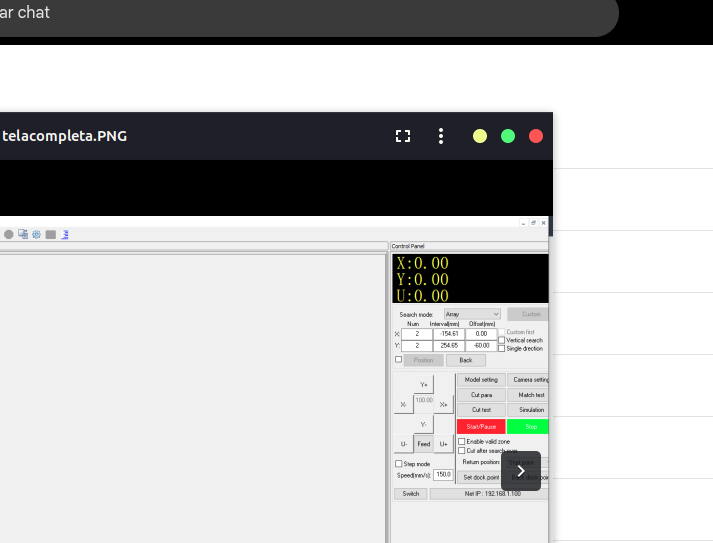start: (456, 418, 506, 435)
timer: (465, 320, 497, 352)
